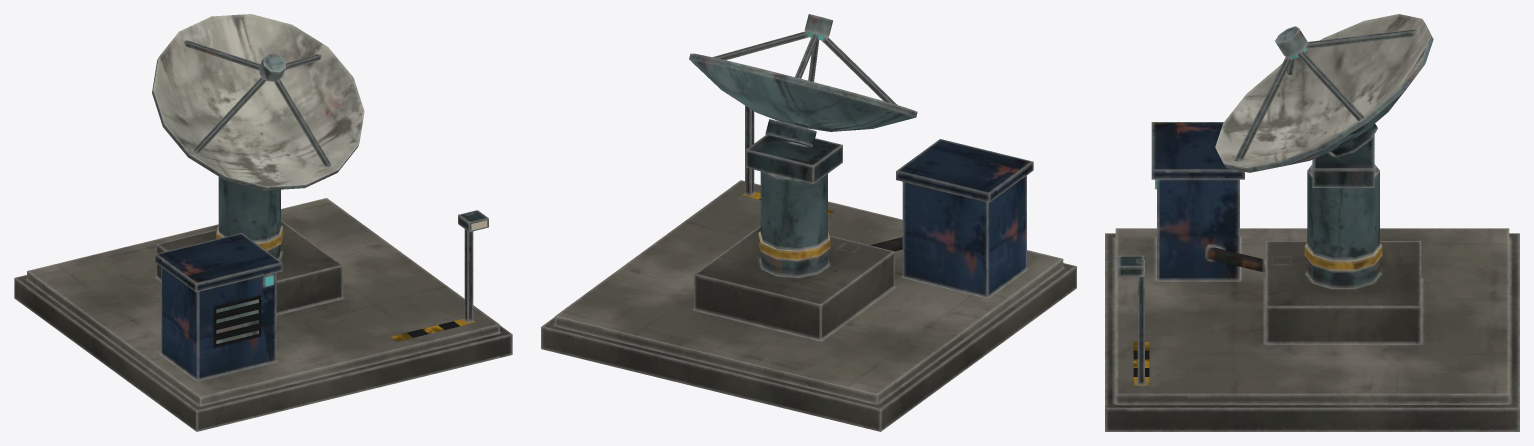
File: observation_uplink.glb
3 renders of one model, left to right at view 1: azimuth 30°, elevation 25°; view 2: azimuth 150°, elevation 25°; view 3: azimuth 270°, elevation 25°, orthographic. The views are drawn at different scales.
Parts seen in each view (by area): view 1: te_observation_uplink, move_dish; view 2: te_observation_uplink, move_dish; view 3: te_observation_uplink, move_dish.
Part boxes in pixels (box(x1,y1,x2,y2)): te_observation_uplink: box(14, 177, 512, 431); move_dish: box(152, 14, 364, 190); te_observation_uplink: box(541, 105, 1076, 431); move_dish: box(689, 14, 917, 183); te_observation_uplink: box(1105, 122, 1519, 431); move_dish: box(1215, 14, 1433, 187).
Bounding box in the file's own units: 0.8 × 0.6724 × 0.8.
Materials: 1 (1 with a texture image).
